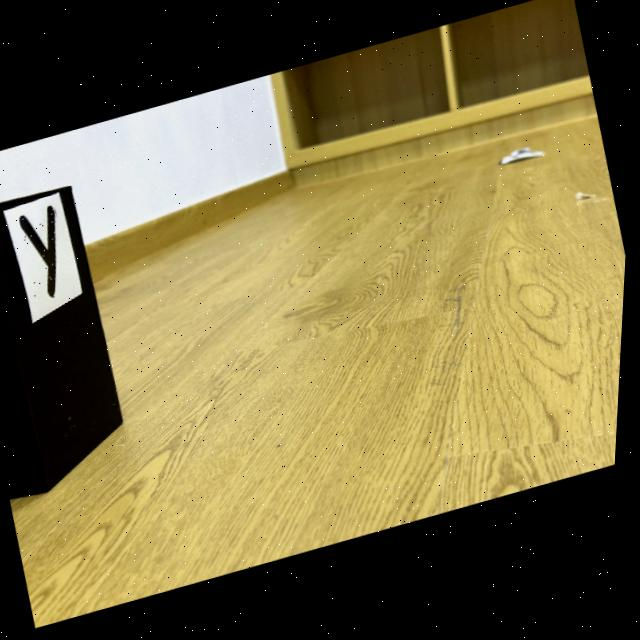Y: (22, 206, 60, 297)
